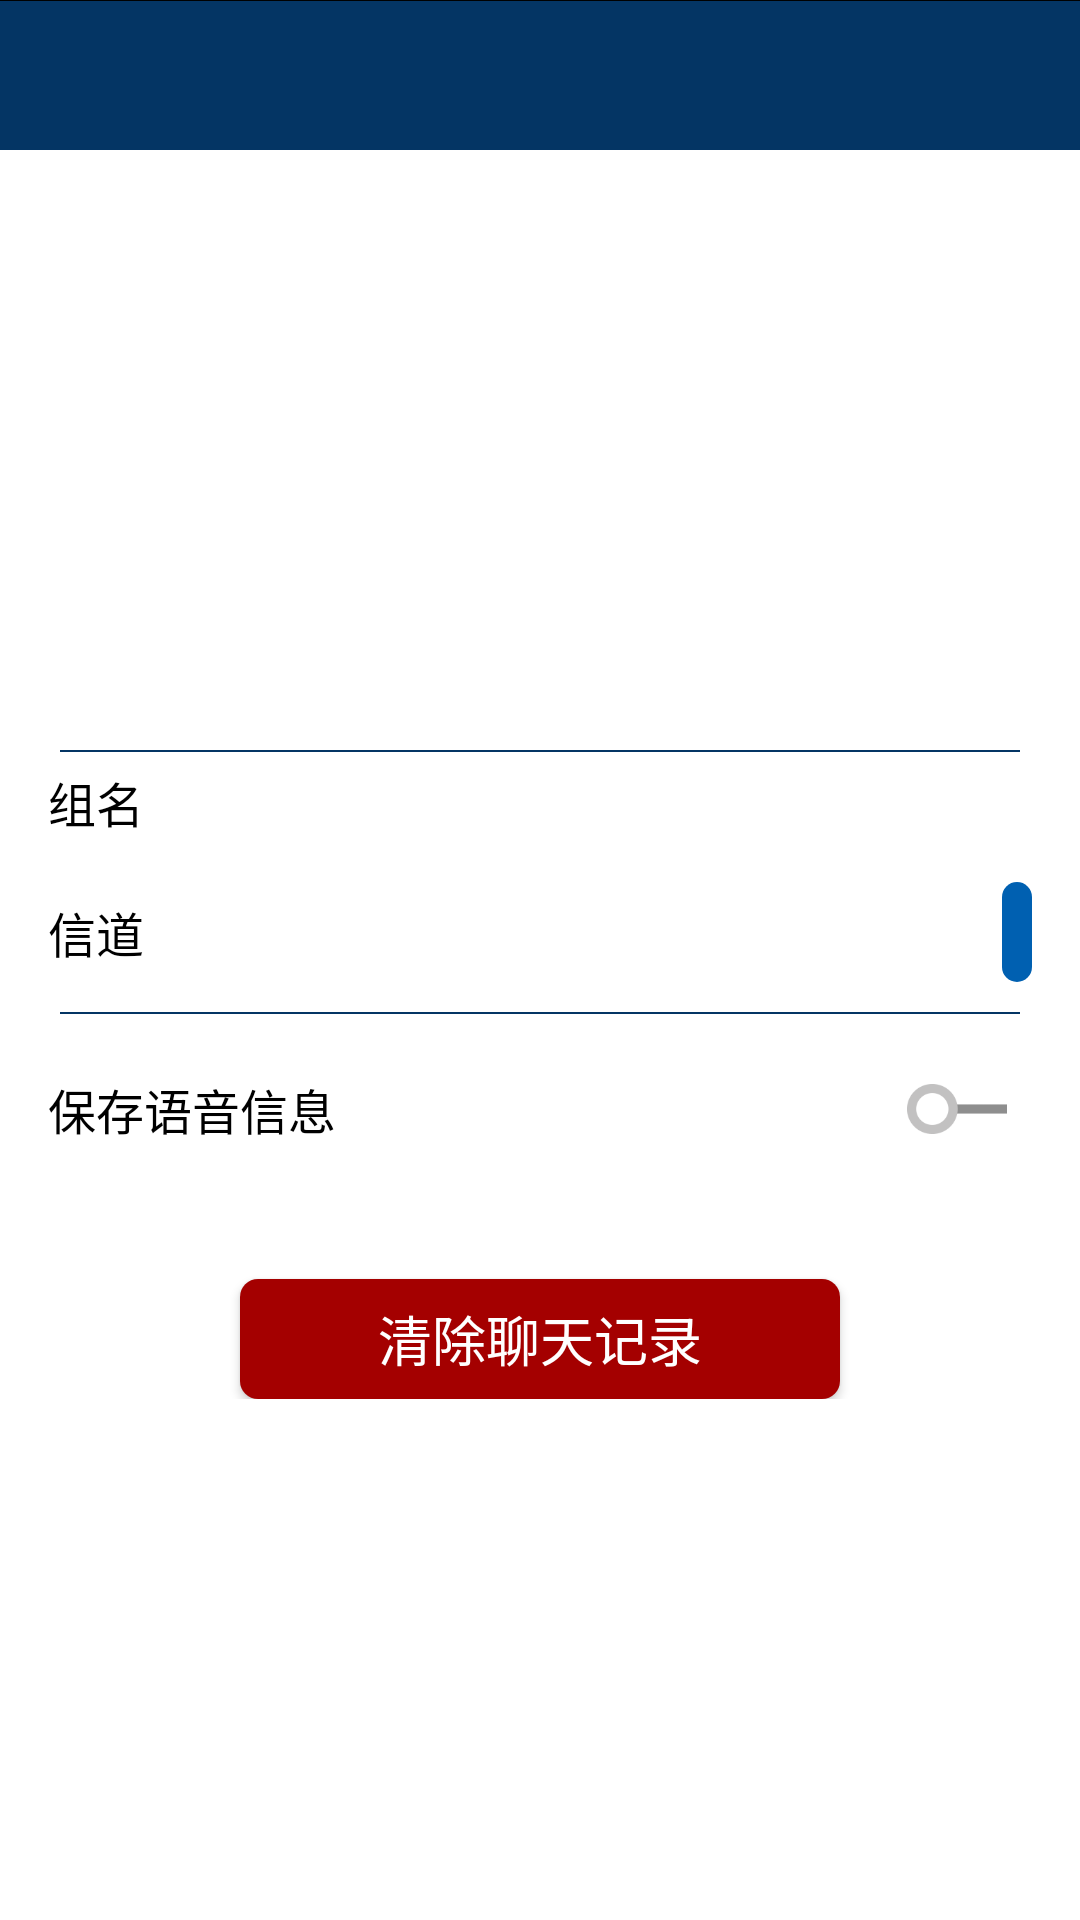

Point at icon controls on the screen. Image size 1080*1920, points as point (x, y).
switch: point (957, 1109)
